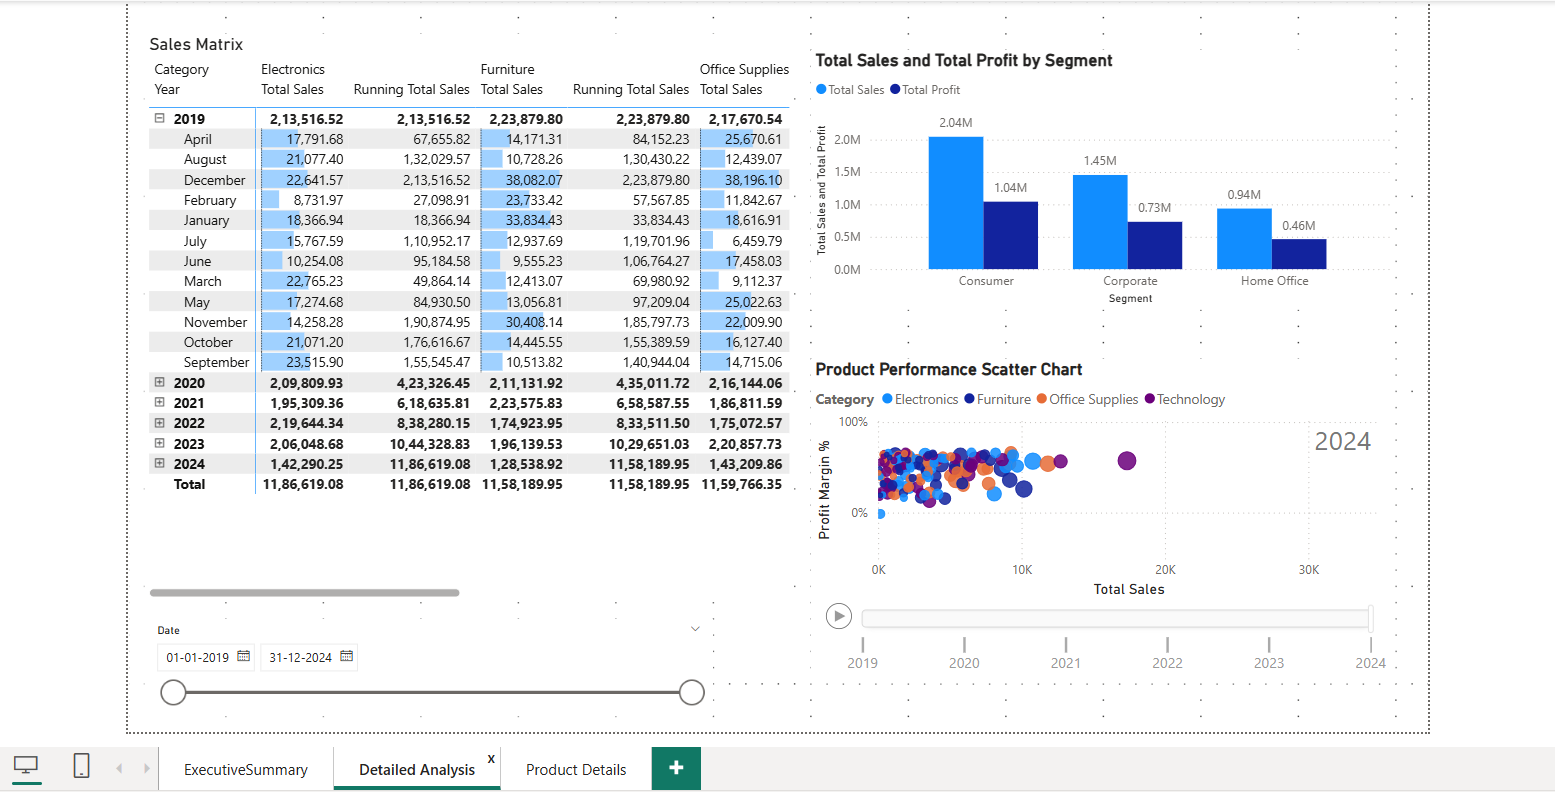

Layout of this report page (visuals, bound fields, positions):
{"tool":"powerbi","page":{"name":"Detailed Analysis","canvas":[1280,720],"ordinal":1},"visuals":[{"type":"pivotTable","title":"Sales Matrix","fields":{"Columns":["products.Category"],"Values":["Key_Measures.Total Sales","Key_Measures.Running Total Sales"],"Rows":["date_table.Year","date_table.Month Name"]},"box":[16,32,640,560],"z":0},{"type":"clusteredColumnChart","fields":{"Category":["customers.Segment"],"Y":["Key_Measures.Total Sales","Key_Measures.Total Profit"]},"box":[672,48,576,256],"z":1000},{"type":"scatterChart","title":"Product Performance Scatter Chart","fields":{"X":["Key_Measures.Total Sales"],"Y":["Key_Measures.Profit Margin %"],"Size":["Key_Measures.Total Quantity"],"Series":["products.Category"],"Play":["date_table.Year"],"Category":["products.Product Name"]},"box":[672,352,576,320],"z":2000},{"type":"slicer","fields":{"Values":["date_table.Date"]},"box":[16,608,560,96],"z":3000}]}

Visuals, with their boxes on the page's 1280x720 design canvas (x1, y1, x2, y2). These are canvas units, not pixel positions in the 1555x792 screenshot, which may show the page scaled, cropped or inside an application window:
"Sales Matrix" pivotTable: left=16, top=32, right=656, bottom=592
clusteredColumnChart - customers.Segment x Key_Measures.Total Sales: left=672, top=48, right=1248, bottom=304
"Product Performance Scatter Chart" scatterChart: left=672, top=352, right=1248, bottom=672
slicer - date_table.Date: left=16, top=608, right=576, bottom=704
